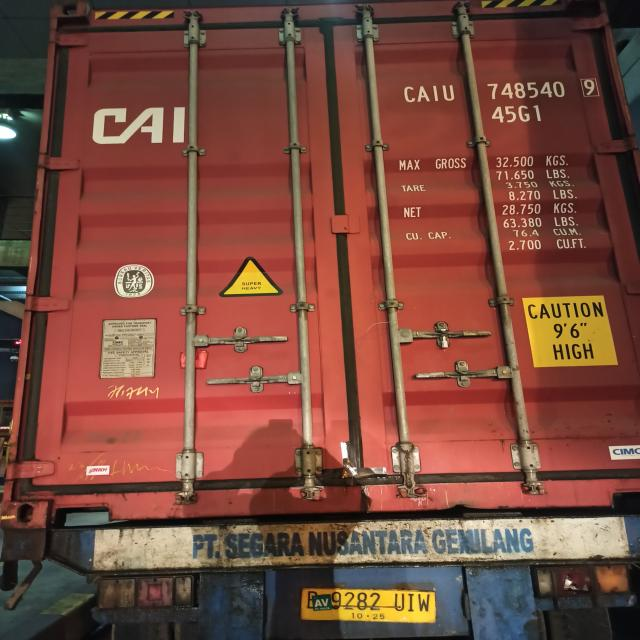seal: (437, 327, 452, 349)
